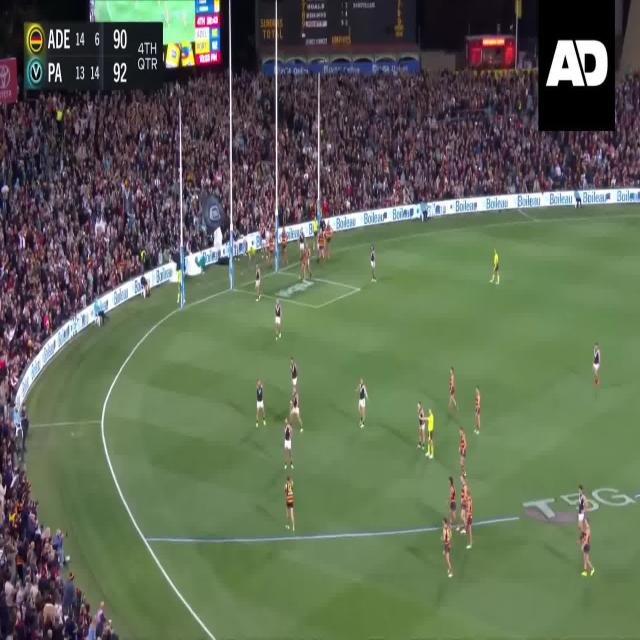crowd: (0, 82, 182, 400), (319, 68, 640, 215), (2, 404, 117, 639), (182, 73, 231, 241), (232, 71, 276, 236), (279, 74, 317, 227), (182, 86, 211, 248)
